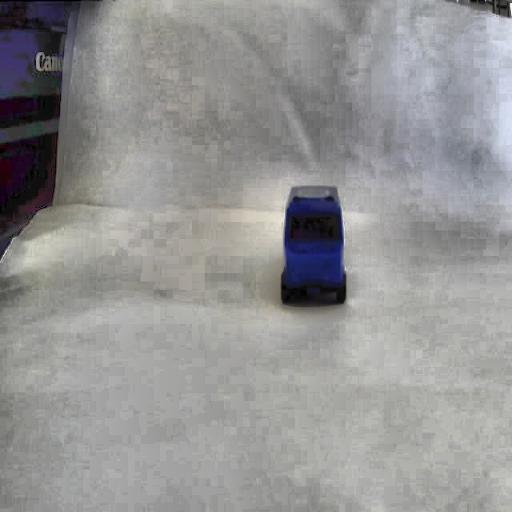police car: (281, 186, 349, 312)
